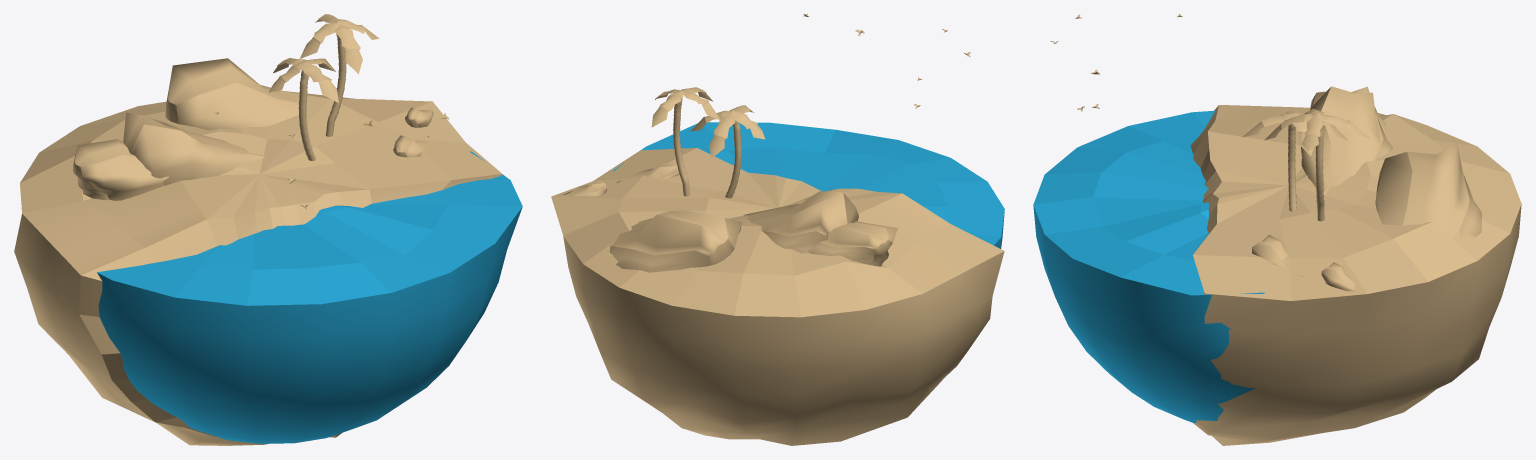
File: island.glb
The picture shows the model from 3 angles, left to right: view 1: azimuth 30°, elevation 25°; view 2: azimuth 150°, elevation 25°; view 3: azimuth 270°, elevation 25°; orthographic projection. The views are drawn at different scales.
Visible parts, largest first — view 1: pSphere1_phong1_0, pSphere11_lambert3_0, polySurface400_lambert4_0, polySurface409_lambert4_0, polySurface407_lambert5_0, polySurface406_lambert5_0, polySurface407_lambert6_0, polySurface406_lambert6_0, polySurface410_lambert4_0; view 2: pSphere11_lambert3_0, pSphere1_phong1_0, polySurface400_lambert4_0, polySurface409_lambert4_0, polySurface406_lambert5_0, polySurface407_lambert5_0, polySurface407_lambert6_0, polySurface406_lambert6_0, polySurface410_lambert4_0; view 3: pSphere11_lambert3_0, pSphere1_phong1_0, polySurface409_lambert4_0, polySurface400_lambert4_0, polySurface407_lambert5_0, polySurface406_lambert5_0, polySurface410_lambert4_0, polySurface407_lambert6_0, polySurface406_lambert6_0, polySurface411_lambert4_0.
Boxes of the visible parts, <box> form: pSphere1_phong1_0: <box>97,151,522,443</box>; pSphere11_lambert3_0: <box>14,90,502,445</box>; polySurface400_lambert4_0: <box>72,112,264,200</box>; polySurface409_lambert4_0: <box>165,58,298,130</box>; polySurface407_lambert5_0: <box>300,14,379,74</box>; polySurface406_lambert5_0: <box>268,58,338,102</box>; polySurface407_lambert6_0: <box>325,34,346,136</box>; polySurface406_lambert6_0: <box>298,66,315,160</box>; polySurface410_lambert4_0: <box>393,135,429,157</box>; pSphere11_lambert3_0: <box>551,148,1004,445</box>; pSphere1_phong1_0: <box>613,122,1004,248</box>; polySurface400_lambert4_0: <box>743,191,897,266</box>; polySurface409_lambert4_0: <box>609,210,741,272</box>; polySurface406_lambert5_0: <box>690,105,765,158</box>; polySurface407_lambert5_0: <box>651,87,720,127</box>; polySurface407_lambert6_0: <box>673,92,690,196</box>; polySurface406_lambert6_0: <box>725,120,741,198</box>; polySurface410_lambert4_0: <box>616,162,679,183</box>; pSphere11_lambert3_0: <box>1190,105,1521,445</box>; pSphere1_phong1_0: <box>1033,110,1264,422</box>; polySurface409_lambert4_0: <box>1375,142,1481,239</box>; polySurface400_lambert4_0: <box>1301,86,1392,195</box>; polySurface407_lambert5_0: <box>1264,108,1370,151</box>; polySurface406_lambert5_0: <box>1242,110,1348,155</box>; polySurface410_lambert4_0: <box>1252,234,1302,276</box>; polySurface407_lambert6_0: <box>1315,117,1324,221</box>; polySurface406_lambert6_0: <box>1288,113,1296,211</box>; polySurface411_lambert4_0: <box>1321,262,1355,291</box>.
Size of the model in its own units: 0.1395 by 0.1197 by 0.1429.
